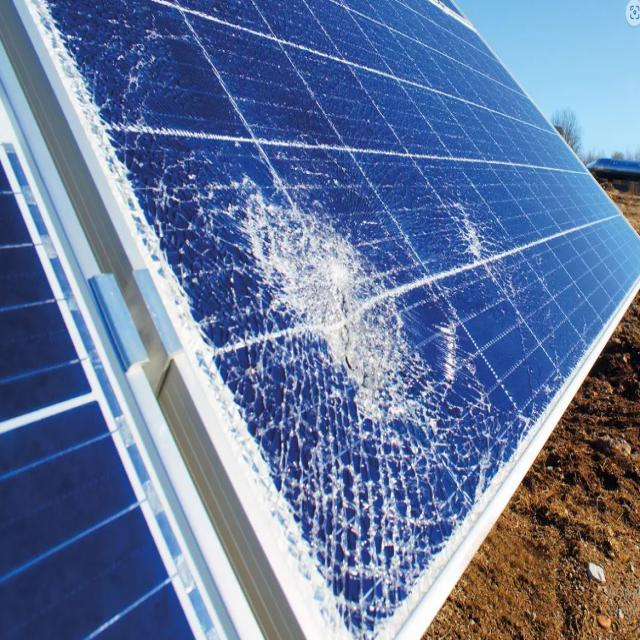physical damage: (45, 4, 570, 617)
